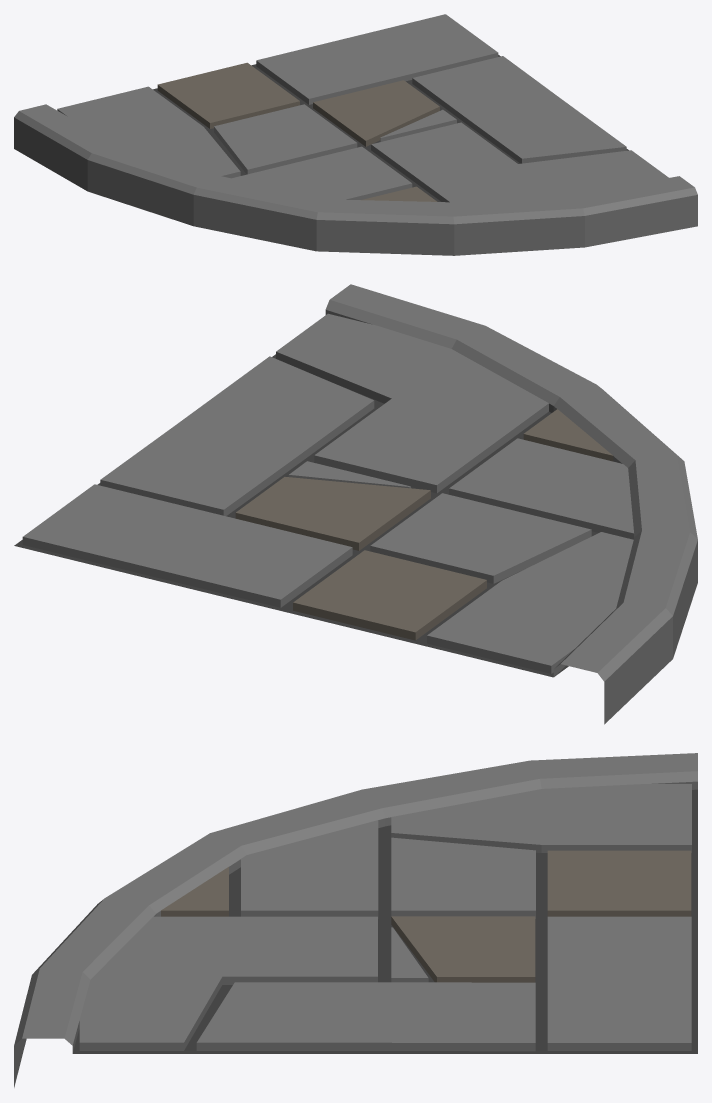
Rendered from Walkway Modern C - 3.fbx.
3 renders of one model, top to bottom at view 1: azimuth 30°, elevation 25°; view 2: azimuth 150°, elevation 25°; view 3: azimuth 270°, elevation 25°, orthographic. The views are drawn at different scales.
Parts seen in each view (by area): view 1: Walkway Modern C - 4.000; view 2: Walkway Modern C - 4.000; view 3: Walkway Modern C - 4.000.
Part boxes in pixels (bbox=[...]): Walkway Modern C - 4.000: bbox=[14, 14, 697, 255]; Walkway Modern C - 4.000: bbox=[14, 284, 697, 724]; Walkway Modern C - 4.000: bbox=[14, 753, 697, 1087].
Size of the model in its own units: 333 by 333 by 27.01.
